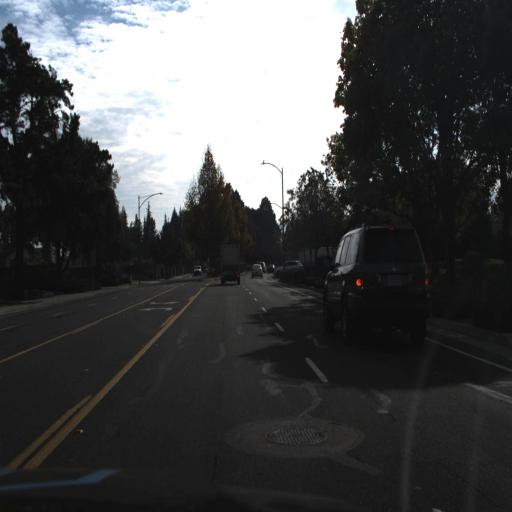car: (316, 217, 437, 347), (219, 236, 246, 291), (271, 258, 304, 280), (248, 258, 264, 280)
truck: (216, 238, 243, 289)
